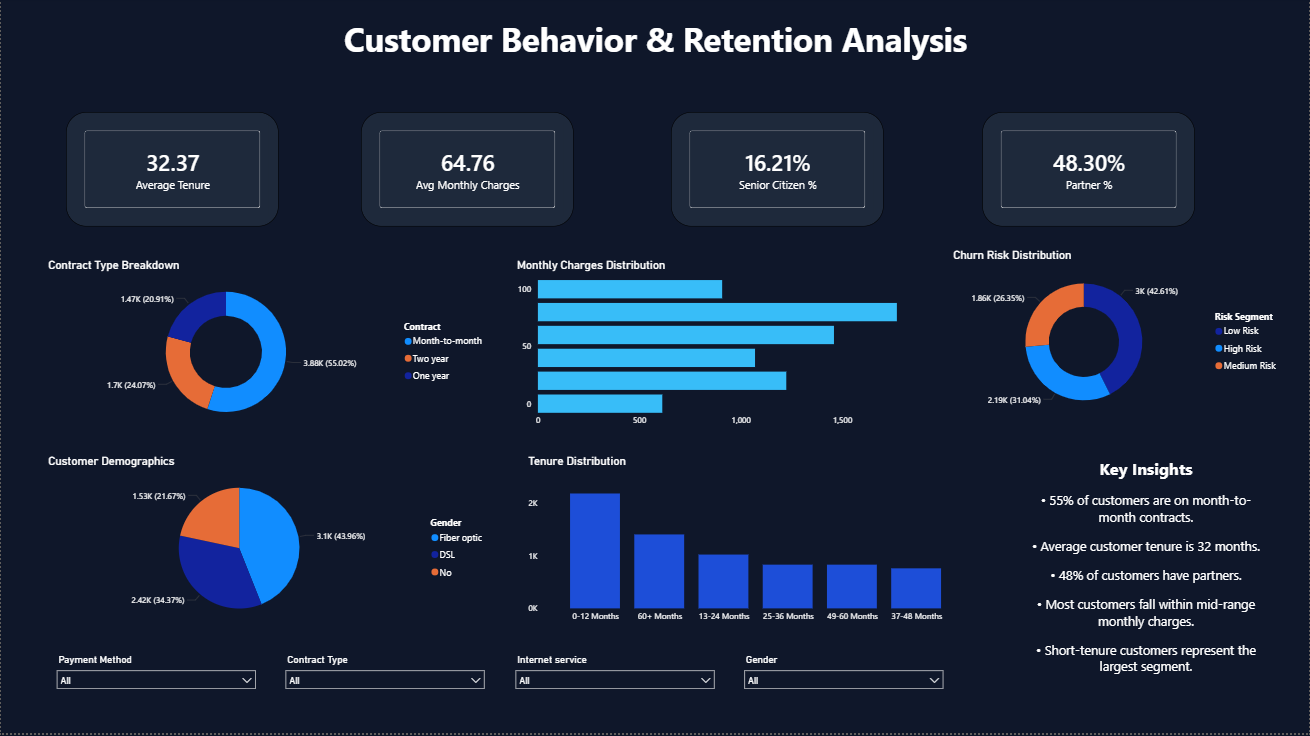

The page's visual inventory and layout, read from the dashboard file:
{"tool":"powerbi","page":{"name":"Page 2","canvas":[1920,1080],"ordinal":1},"visuals":[{"type":"textbox","box":[480,24,960,96],"z":0},{"type":"cardVisual","fields":{"Data":["in.Average Tenure"]},"box":[96,168,312,168],"z":1},{"type":"cardVisual","fields":{"Data":["in.Avg Monthly Charges"]},"box":[528,168,312,168],"z":2},{"type":"cardVisual","fields":{"Data":["in.Senior Citizen %"]},"box":[984,168,312,168],"z":3},{"type":"cardVisual","fields":{"Data":["in.Partner %"]},"box":[1440,168,312,168],"z":4},{"type":"donutChart","title":"Contract Type Breakdown","fields":{"Category":["in.Contract"],"Y":["CountNonNull(in.customerID)"]},"box":[64,384,656,256],"z":5},{"type":"clusteredColumnChart","title":"Tenure Distribution","fields":{"Category":["in.Tenure Group"],"Y":["CountNonNull(in.customerID)"]},"box":[768,672,656,256],"z":6},{"type":"clusteredBarChart","title":"Monthly Charges Distribution","fields":{"Category":["in.MonthlyCharges (bins)"],"Y":["CountNonNull(in.customerID)"]},"box":[752,384,592,256],"z":7},{"type":"pieChart","title":"Customer Demographics","fields":{"Y":["CountNonNull(in.customerID)"],"Category":["in.InternetService"]},"box":[64,672,656,256],"z":8},{"type":"slicer","fields":{"Values":["in.PaymentMethod"]},"box":[72,960,312,72],"z":9},{"type":"slicer","fields":{"Values":["in.Contract"]},"box":[408,960,312,72],"z":10},{"type":"slicer","fields":{"Values":["in.PaymentMethod","in.InternetService"]},"box":[744,960,312,72],"z":11},{"type":"slicer","fields":{"Values":["in.gender"]},"box":[1080,960,312,72],"z":12},{"type":"textbox","box":[1504,672,352,368],"z":13},{"type":"donutChart","title":"Churn Risk Distribution","fields":{"Category":["in.Risk Segment"],"Y":["CountNonNull(in.customerID)"]},"box":[1392,368,496,256],"z":14}]}

Visuals, with their boxes in screenshot pixels (x1, y1, x2, y2), scaled from the page's 1920x1080 canvas onto the 1310x736 screenshot:
textbox: bbox=(328, 16, 982, 82)
cardVisual - in.Average Tenure: bbox=(66, 114, 278, 229)
cardVisual - in.Avg Monthly Charges: bbox=(360, 114, 573, 229)
cardVisual - in.Senior Citizen %: bbox=(671, 114, 884, 229)
cardVisual - in.Partner %: bbox=(982, 114, 1195, 229)
"Contract Type Breakdown" donutChart: bbox=(44, 262, 491, 436)
"Tenure Distribution" clusteredColumnChart: bbox=(524, 458, 972, 632)
"Monthly Charges Distribution" clusteredBarChart: bbox=(513, 262, 917, 436)
"Customer Demographics" pieChart: bbox=(44, 458, 491, 632)
slicer - in.PaymentMethod: bbox=(49, 654, 262, 703)
slicer - in.Contract: bbox=(278, 654, 491, 703)
slicer - in.PaymentMethod x in.InternetService: bbox=(508, 654, 720, 703)
slicer - in.gender: bbox=(737, 654, 950, 703)
textbox: bbox=(1026, 458, 1266, 709)
"Churn Risk Distribution" donutChart: bbox=(950, 251, 1288, 425)
